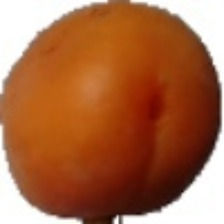apricot: (21, 8, 172, 190)
